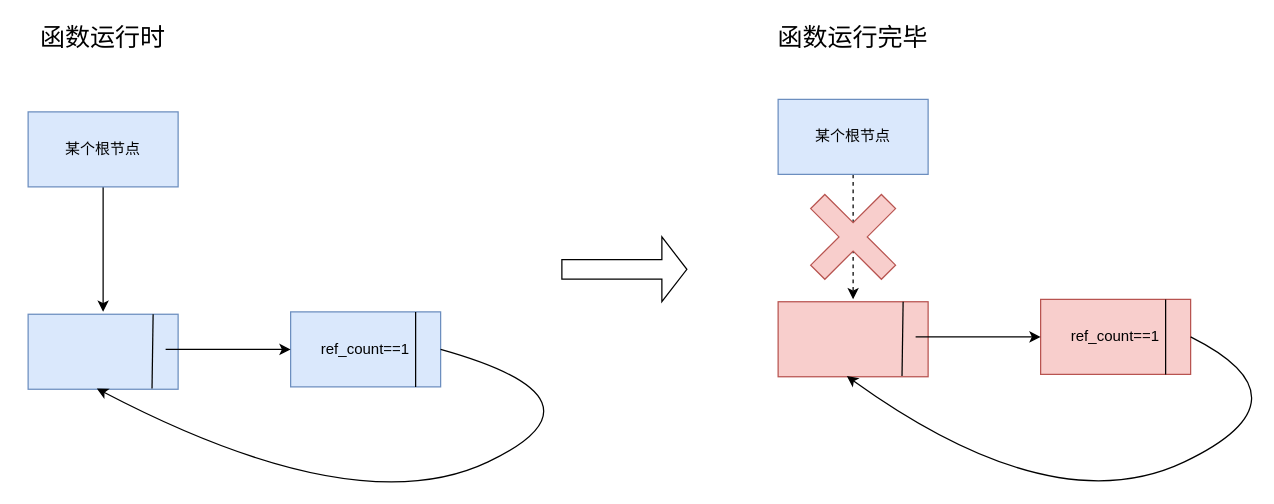
The diagram is 1274 pixels wide and 504 high, and some of its shapes have lost their labels. Here are the shapes that lost their labels. From the top down, the centre of each, then its label:
At [102,351]: "ref_count == 2".
At [852,338]: "ref_count == 1".
